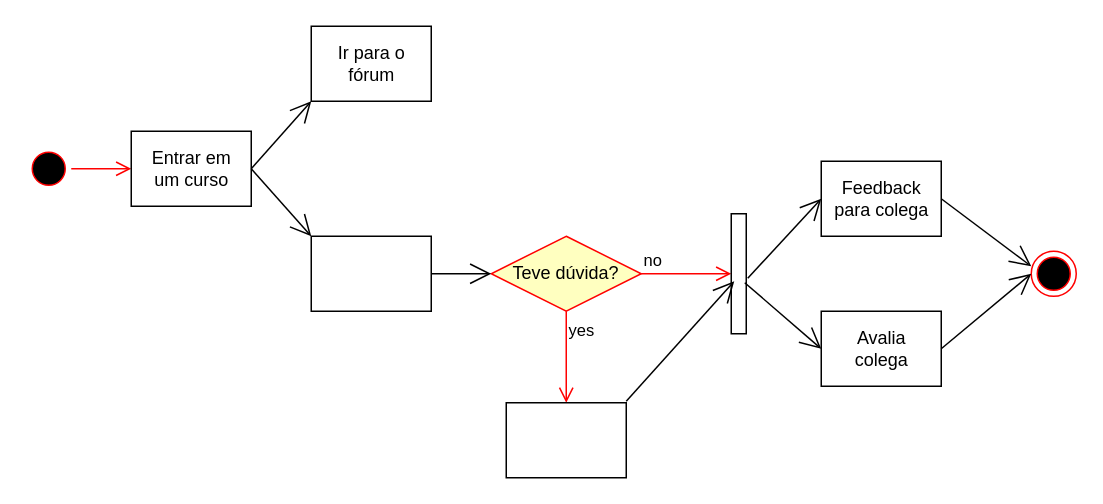
Image size: 1103x504. Some labels were removed from this diagram. Here are the shapes that lost their labels. From the top down, the centre of each, then its label:
At (370,273): "Ver um vídeo".
At (565,439): "Abre dúvida".
